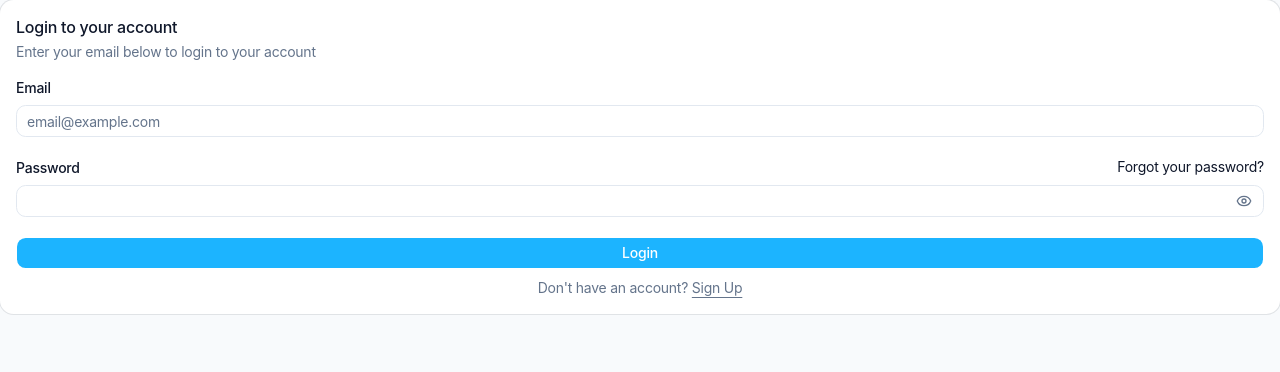
LoginForm › shows the backend message when the response body has a message field
The image size is (1280, 372).
Type "user@email.com" into the field labelled "Email".
click(640, 121); type("user@email.com")  # box 16,105 -> 1264,137
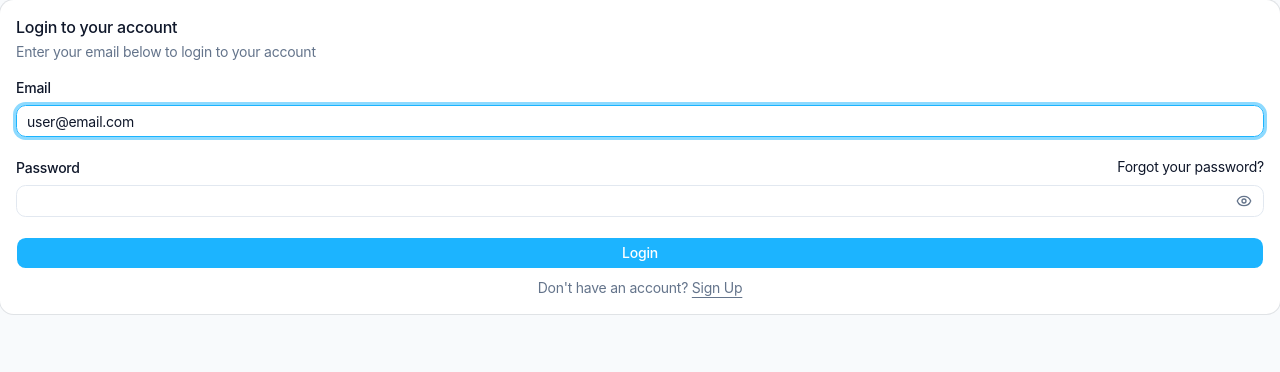
Type "Password@123" into the password field labelled "Password".
click(640, 201); type("Password@123")  # box 16,185 -> 1264,217
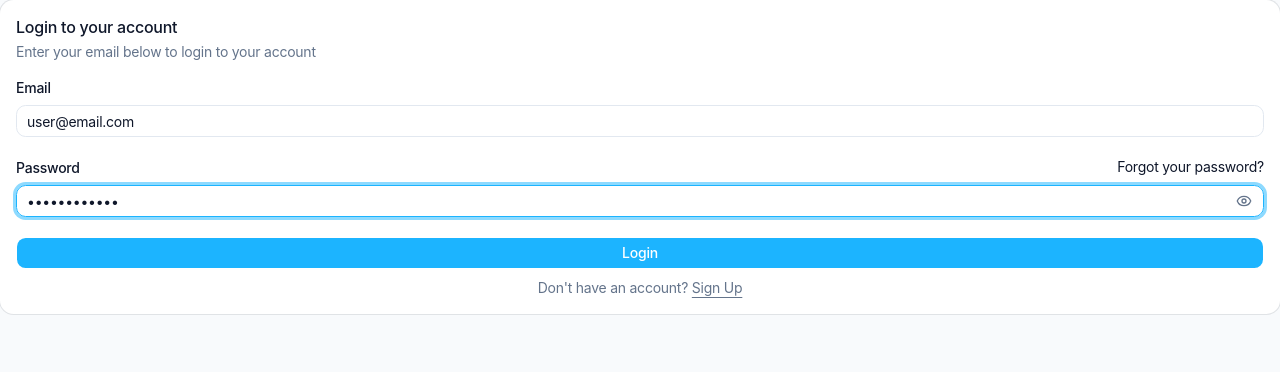
Click the button "Login".
click(640, 253)  # box 16,237 -> 1264,269
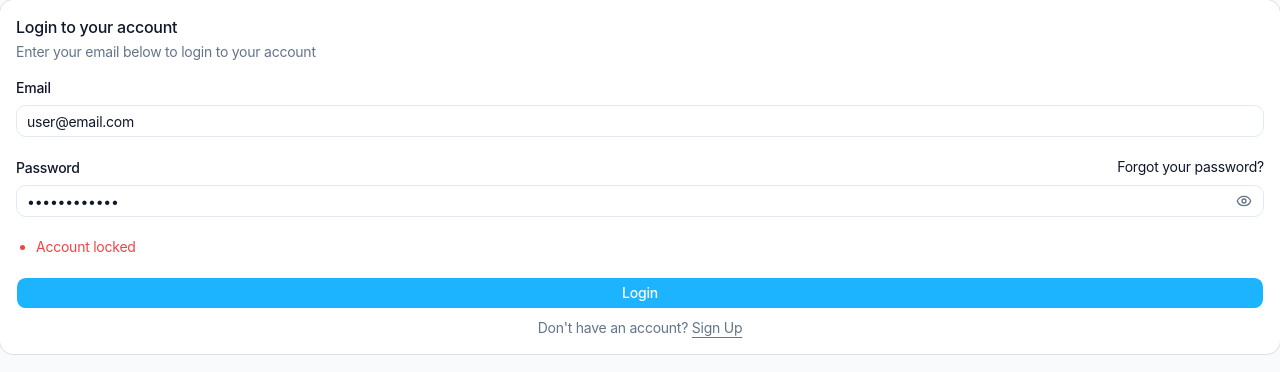
Now the list item "Account locked" is shown, box 36,238 -> 136,255
